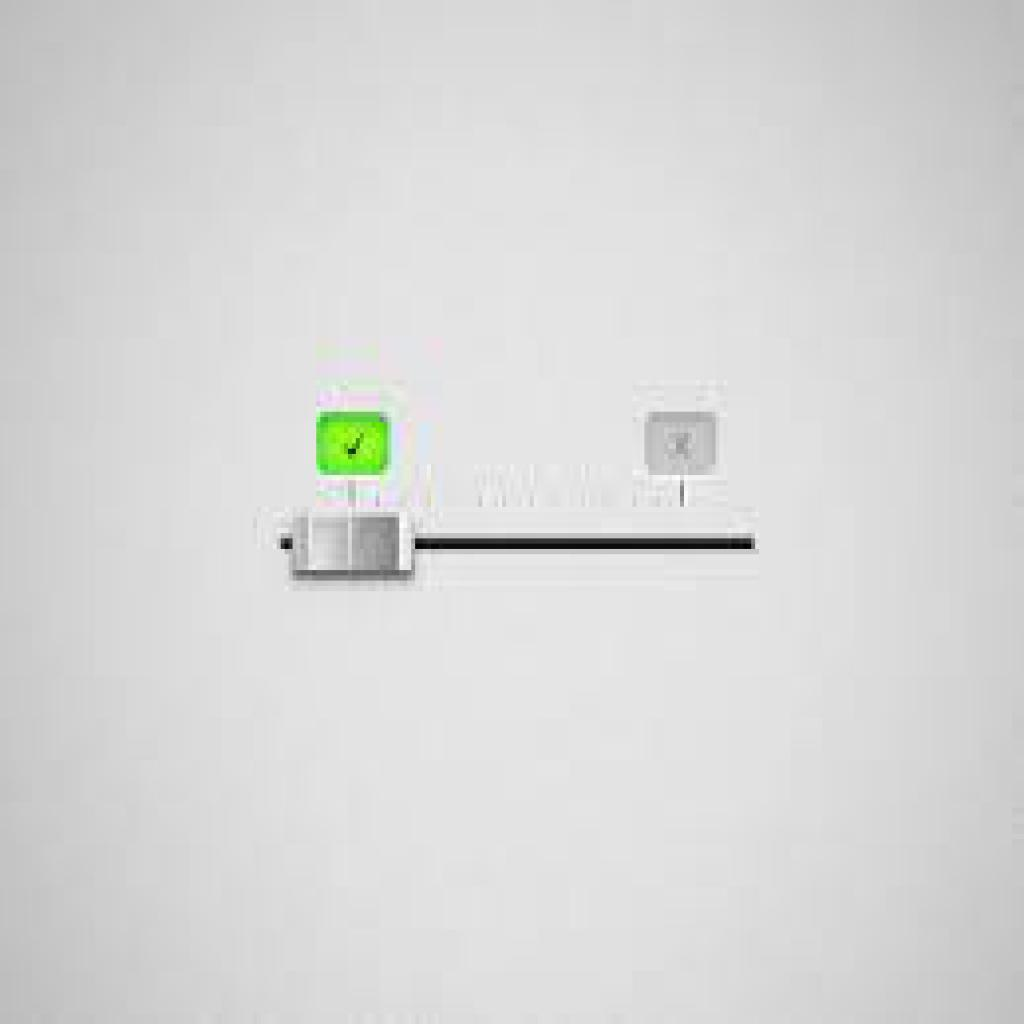checkbox: (643, 408, 722, 479), (317, 411, 391, 476)
slider: (275, 514, 761, 579)
